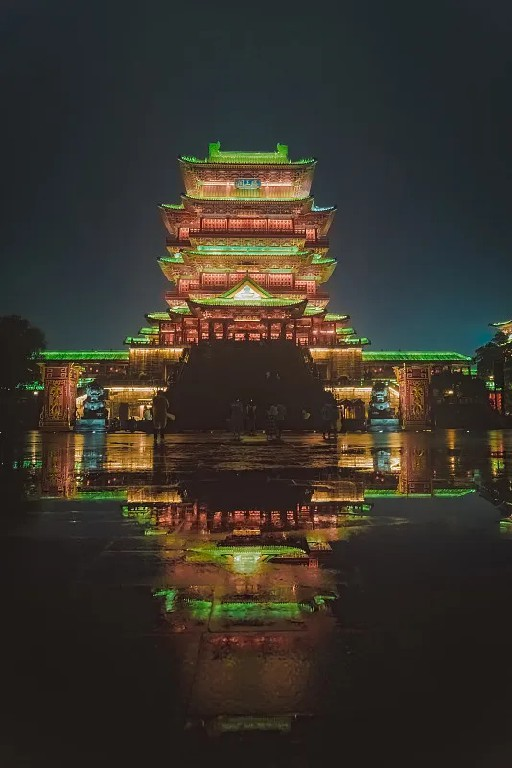Teng: (124, 142, 369, 349)
